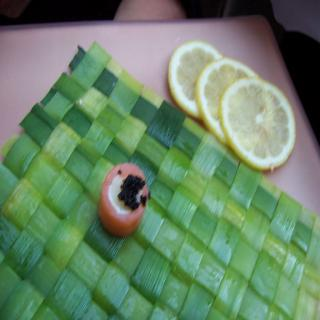Lemon: (220, 76, 297, 172), (194, 56, 260, 145), (167, 39, 222, 120)
